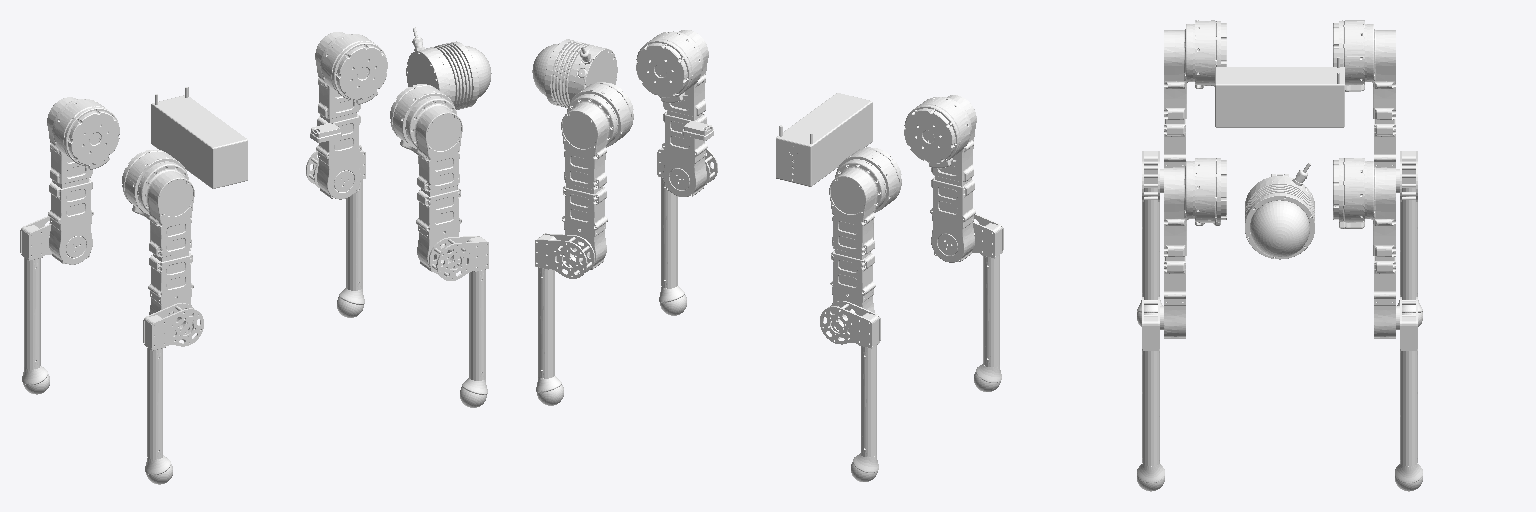
The robot description file, URDF, robot "freeAny":
<?xml version="1.0" encoding="utf-8"?>
<!-- This URDF was automatically created by SolidWorks to URDF Exporter! Originally created by Stephen Brawner ([email redacted]) 
     Commit Version: 1.6.0-1-g15f4949  Build Version: 1.6.7594.29634
     For more information, please see http://wiki.ros.org/sw_urdf_exporter -->
<robot
  name="freeAny">
  <link
    name="base">
    <inertial>
      <origin
        xyz="0.0036585 -0.00075969 -0.0077332"
        rpy="0 0 0" />
      <mass
        value="4.71" />
      <inertia
        ixx="0.02327755"
        ixy="0.000033511"
        ixz="0.000186233"
        iyy="0.126017746"
        iyz="-0.000014056"
        izz="0.133811568" />
    </inertial>
    <visual>
      <origin
        xyz="0 0 0"
        rpy="0 0 0" />
      <geometry>
        <mesh
          filename="package://freeAny/meshes/base.STL" />
      </geometry>
      <material
        name="">
        <color
          rgba="0.6 1 1 1" />
      </material>
    </visual>
    <collision>
      <origin
        xyz="0 0 0"
        rpy="0 0 0" />
      <geometry>
        <mesh
          filename="package://freeAny/meshes/base.STL" />
      </geometry>
    </collision>
  </link>
  <link
    name="battery">
    <inertial>
      <origin
        xyz="0 4.0915E-05 3.0102E-05"
        rpy="0 0 0" />
      <mass
        value="1.47" />
      <inertia
        ixx="0.004712212"
        ixy="-1.6E-08"
        ixz="-8.0E-09"
        iyy="0.001037398"
        iyz="3.622E-06"
        izz="0.004615705" />
    </inertial>
    <visual>
      <origin
        xyz="0 0 0"
        rpy="0 0 0" />
      <geometry>
        <mesh
          filename="package://freeAny/meshes/battery.STL" />
      </geometry>
      <material
        name="">
        <color
          rgba="1 1 1 1" />
      </material>
    </visual>
    <collision>
      <origin
        xyz="0 0 0"
        rpy="0 0 0" />
      <geometry>
        <mesh
          filename="package://freeAny/meshes/battery.STL" />
      </geometry>
    </collision>
  </link>
  <joint
    name="base_to_battery"
    type="fixed">
    <origin
      xyz="-0.0945 0 -0.006"
      rpy="0 0 0" />
    <parent
      link="base" />
    <child
      link="battery" />
    <axis
      xyz="0 0 0" />
  </joint>
  <link
    name="IMU">
    <inertial>
      <origin
        xyz="0.00027332 0 -0.0072335"
        rpy="0 0 0" />
      <mass
        value="0.03" />
        <inertia
          ixx="4.013E-06"
          ixy="0"
          ixz="-1.5E-08"
          iyy="6.158E-06"
          iyz="-2.0E-09"
          izz="6.061E-06" />
    </inertial>
    <visual>
      <origin
        xyz="0 0 0"
        rpy="0 0 0" />
      <geometry>
        <mesh
          filename="package://freeAny/meshes/IMU.STL" />
      </geometry>
      <material
        name="">
        <color
          rgba="1 1 1 1" />
      </material>
    </visual>
    <collision>
      <origin
        xyz="0 0 0"
        rpy="0 0 0" />
      <geometry>
        <mesh
          filename="package://freeAny/meshes/IMU.STL" />
      </geometry>
    </collision>
  </link>
  <joint
    name="base_to_IMU"
    type="fixed">
    <origin
      xyz="0.12095 0 -0.0335"
      rpy="0 0 0" />
    <parent
      link="base" />
    <child
      link="IMU" />
    <axis
      xyz="0 0 0" />
  </joint>
  <link
    name="BP_lidar">
    <inertial>
      <origin
        xyz="-0.00092658 3.0E-05 -0.058804"
        rpy="0 0 0" />
      <mass
        value="1.0" />
      <inertia
        ixx="0.005077876"
        ixy="1.493E-06"
        ixz="7.8943E-05"
        iyy="0.005133860"
        iyz="-2.922E-06"
        izz="0.001777821" />
    </inertial>
    <visual>
      <origin
        xyz="0 0 0"
        rpy="0 0 0" />
      <geometry>
        <mesh
          filename="package://freeAny/meshes/BP_lidar.STL" />
      </geometry>
      <material
        name="">
        <color
          rgba="1 1 1 1" />
      </material>
    </visual>
    <collision>
      <origin
        xyz="0 0 0"
        rpy="0 0 0" />
      <geometry>
        <mesh
          filename="package://freeAny/meshes/BP_lidar.STL" />
      </geometry>
    </collision>
  </link>
  <joint
    name="base_to_BP_lidar"
    type="fixed">
    <origin
      xyz="0.38227 0 0"
      rpy="-1.5708 1.0472 -1.5708" />
    <parent
      link="base" />
    <child
      link="BP_lidar" />
    <axis
      xyz="0 0 0" />
  </joint>
  <link
    name="HAA_LF">
    <inertial>
      <origin
        xyz="0.042659 0.0034843 -0.00035303"
        rpy="0 0 0" />
      <mass
        value="0.715" />
      <inertia
        ixx="0.000546211"
        ixy="0.000114344"
        ixz="-1.0737E-05"
        iyy="0.002324487"
        iyz="3.2554E-05"
        izz="0.002086762" />
    </inertial>
    <visual>
      <origin
        xyz="0 0 0"
        rpy="0 0 0" />
      <geometry>
        <mesh
          filename="package://freeAny/meshes/HAA.STL" />
      </geometry>
      <material
        name="">
        <color
          rgba="1 1 1 1" />
      </material>
    </visual>
    <collision>
      <origin
        xyz="0 0 0"
        rpy="0 0 0" />
      <geometry>
        <mesh
          filename="package://freeAny/meshes/HAA.STL" />
      </geometry>
    </collision>
  </link>
  <joint
    name="base_to_HAA_LF"
    type="revolute">
    <origin
      xyz="0.1756 0.055 0"
      rpy="0 0 0" />
    <parent
      link="base" />
    <child
      link="HAA_LF" />
    <axis
      xyz="-1 0 0" />
    <limit
      lower="-3"
      upper="3"
      effort="33"
      velocity="21" />
    <dynamics
      damping="0"
      friction="0" />
  </joint>
  <link
    name="thigh_LF">
    <inertial>
      <origin
        xyz="-0.0189705375371325 -0.000100074218264051 -0.072708434237058"
        rpy="0 0 0" />
      <mass
        value="1.15" />
      <inertia
        ixx="0.014724523"
        ixy="5.677E-06"
        ixz="6.2711E-05"
        iyy="0.015466921"
        iyz="7.296E-06"
        izz="0.001822592" />
    </inertial>
    <visual>
      <origin
        xyz="0 0 0"
        rpy="0 0 0" />
      <geometry>
        <mesh
          filename="package://freeAny/meshes/thigh.STL" />
      </geometry>
      <material
        name="">
        <color
          rgba="1 1 1 1" />
      </material>
    </visual>
    <collision>
      <origin
        xyz="0 0 0"
        rpy="0 0 0" />
      <geometry>
        <mesh
          filename="package://freeAny/meshes/thigh.STL" />
      </geometry>
    </collision>
  </link>
  <joint
    name="HAA_to_thigh_LF"
    type="revolute">
    <origin
      xyz="0.0541 0.09355 0"
      rpy="0 0 1.5708" />
    <parent
      link="HAA_LF" />
    <child
      link="thigh_LF" />
    <axis
      xyz="-1 0 0" />
    <limit
      lower="-3"
      upper="3"
      effort="33"
      velocity="21" />
    <dynamics damping="0" friction="0" />
  </joint>
  <link
    name="shank_LF">
    <inertial>
      <origin
        xyz="-0.000781225496575888 -0.0294992378442806 -0.00454152532339466"
        rpy="0 0 0" />
      <mass
        value="0.085" />
      <inertia
        ixx="0.000156178"
        ixy="0"
        ixz="0"
        iyy="3.8653E-05"
        iyz="1.8611E-05"
        izz="0.000133207" />
    </inertial>
    <visual>
      <origin
        xyz="0 0 0"
        rpy="0 0 0" />
      <geometry>
        <mesh
          filename="package://freeAny/meshes/shank_Left.STL" />
      </geometry>
      <material
        name="">
        <color
          rgba="1 1 1 1" />
      </material>
    </visual>
    <collision>
      <origin
        xyz="0 0 0"
        rpy="0 0 0" />
      <geometry>
        <mesh
          filename="package://freeAny/meshes/shank_Left.STL" />
      </geometry>
    </collision>
  </link>
  <joint
    name="knee_LF"
    type="revolute">
    <origin
      xyz="0.034 0 -0.2"
      rpy="0 0 0" />
    <parent
      link="thigh_LF" />
    <child
      link="shank_LF" />
    <axis
      xyz="1 0 0" />
    <limit
      lower="-5"
      upper="5"
      effort="52"
      velocity="13" />
    <dynamics damping="0" friction="0" />
  </joint>
  <link
    name="foot_LF">
    <inertial>
      <origin
        xyz="0.012 0 0.065"
        rpy="0 0 0" />
      <mass
        value="0.077" />
      <inertia
        ixx="0.00629115"
        ixy="0"
        ixz="7.2557E-05"
        iyy="0.000641223"
        iyz="0"
        izz="2.3963E-05" />
    </inertial>
    <visual>
      <origin
        xyz="0 0 0"
        rpy="0 0 0" />
      <geometry>
        <mesh
          filename="package://freeAny/meshes/foot.STL" />
      </geometry>
      <material
        name="">
        <color
          rgba="1 1 1 1" />
      </material>
    </visual>
    <collision>
      <origin
        xyz="0 0 0"
        rpy="0 0 0" />
      <geometry>
        <mesh
          filename="package://freeAny/meshes/foot.STL" />
      </geometry>
    </collision>
  </link>
  <joint
    name="shank_to_foot_LF"
    type="fixed">
    <origin
      xyz="0 -0.031301 -0.24819"
      rpy="0 0 -1.5708" />
    <parent
      link="shank_LF" />
    <child
      link="foot_LF" />
    <axis
      xyz="0 0 0" />
  </joint>
  <link
    name="HAA_RF">
    <inertial>
      <origin
        xyz="0.042659 -0.0034068 0.00081132"
        rpy="0 0 0" />
      <mass
        value="0.715" />
      <inertia
        ixx="0.000546211"
        ixy="-0.000112737"
        ixz="-2.1910E-05"
        iyy="0.002323220"
        iyz="-3.687E-05"
        izz="0.002088029" />
    </inertial>
    <visual>
      <origin
        xyz="0 0 0"
        rpy="3.1415926 0 0" />
      <geometry>
        <mesh
          filename="package://freeAny/meshes/HAA.STL" />
      </geometry>
      <material
        name="">
        <color
          rgba="1 1 1 1" />
      </material>
    </visual>
    <collision>
      <origin
        xyz="0 0 0"
        rpy="3.1415926 0 0" />
      <geometry>
        <mesh
          filename="package://freeAny/meshes/HAA.STL" />
      </geometry>
    </collision>
  </link>
  <joint
    name="base_to_HAA_RF"
    type="revolute">
    <origin
      xyz="0.1756 -0.055 0"
      rpy="0 0 0" />
    <parent
      link="base" />
    <child
      link="HAA_RF" />
    <axis
      xyz="-1 0 0" />
    <limit
      lower="-3"
      upper="3"
      effort="33"
      velocity="21" />
    <dynamics damping="0" friction="0" />
  </joint>
  <link
    name="thigh_RF">
    <inertial>
      <origin
        xyz="0.0189705413173276 0.000100069718065726 -0.0727084333709927"
        rpy="0 0 0" />
      <mass
        value="1.15" />
      <inertia
        ixx="0.014724523"
        ixy="5.677E-06"
        ixz="-6.2711E-05"
        iyy="0.015466921"
        iyz="-7.296E-06"
        izz="0.001822592" />
    </inertial>
    <visual>
      <origin
        xyz="0 0 0"
        rpy="0 0 3.1415926" />
      <geometry>
        <mesh
          filename="package://freeAny/meshes/thigh.STL" />
      </geometry>
      <material
        name="">
        <color
          rgba="1 1 1 1" />
      </material>
    </visual>
    <collision>
      <origin
        xyz="0 0 0"
        rpy="0 0 3.1415926" />
      <geometry>
        <mesh
          filename="package://freeAny/meshes/thigh.STL" />
      </geometry>
    </collision>
  </link>
  <joint
    name="HAA_to_thigh_RF"
    type="revolute">
    <origin
      xyz="0.0541 -0.09355 0"
      rpy="0 0 1.5708" />
    <parent
      link="HAA_RF" />
    <child
      link="thigh_RF" />
    <axis
      xyz="1 0 0" />
    <limit
      lower="-3"
      upper="3"
      effort="33"
      velocity="21" />
    <dynamics damping="0" friction="0" />
  </joint>
  <link
    name="shank_RF">
    <inertial>
      <origin
        xyz="0.000781225557017318 -0.0294992381685193 -0.00454152518167399"
        rpy="0 0 0" />
      <mass
        value="0.085" />
      <inertia
        ixx="0.000156178"
        ixy="0"
        ixz="0"
        iyy="3.8653E-05"
        iyz="1.8611E-05"
        izz="0.000133207" />
    </inertial>
    <visual>
      <origin
        xyz="0 0 0"
        rpy="0 0 0" />
      <geometry>
        <mesh
          filename="package://freeAny/meshes/shank_Right.STL" />
      </geometry>
      <material
        name="">
        <color
          rgba="1 1 1 1" />
      </material>
    </visual>
    <collision>
      <origin
        xyz="0 0 0"
        rpy="0 0 0" />
      <geometry>
        <mesh
          filename="package://freeAny/meshes/shank_Right.STL" />
      </geometry>
    </collision>
  </link>
  <joint
    name="knee_RF"
    type="revolute">
    <origin
      xyz="-0.034 0 -0.2"
      rpy="0 0 0" />
    <parent
      link="thigh_RF" />
    <child
      link="shank_RF" />
    <axis
      xyz="1 0 0" />
    <limit
      lower="-5"
      upper="5"
      effort="52"
      velocity="13" />
    <dynamics damping="0" friction="0" />
  </joint>
  <link
    name="foot_RF">
    <inertial>
      <origin
        xyz="0.012 0 0.065"
        rpy="0 0 0" />
      <mass
        value="0.077" />
      <inertia
        ixx="0.00629115"
        ixy="0"
        ixz="7.2557E-05"
        iyy="0.000641223"
        iyz="0"
        izz="2.3963E-05" />
    </inertial>
    <visual>
      <origin
        xyz="0 0 0"
        rpy="0 0 0" />
      <geometry>
        <mesh
          filename="package://freeAny/meshes/foot.STL" />
      </geometry>
      <material
        name="">
        <color
          rgba="1 1 1 1" />
      </material>
    </visual>
    <collision>
      <origin
        xyz="0 0 0"
        rpy="0 0 0" />
      <geometry>
        <mesh
          filename="package://freeAny/meshes/foot.STL" />
      </geometry>
    </collision>
  </link>
  <joint
    name="shank_to_foot_RF"
    type="fixed">
    <origin
      xyz="0 -0.031301 -0.24819"
      rpy="0 0 -1.5708" />
    <parent
      link="shank_RF" />
    <child
      link="foot_RF" />
    <axis
      xyz="0 0 0" />
  </joint>
  <link
    name="HAA_LH">
    <inertial>
      <origin
        xyz="-0.0426589009356411 0.00336104614069828 -0.00098404465852114"
        rpy="0 0 0" />
      <mass
        value="0.715" />
        <inertia
          ixx="0.000546211"
          ixy="-0.000109978"
          ixz="3.3083E-05"
          iyy="0.002313521"
          iyz="5.9552E-05"
          izz="0.002097728" />
    </inertial>
    <visual>
      <origin
        xyz="0 0 0"
        rpy="0 3.1415926 0" />
      <geometry>
        <mesh
          filename="package://freeAny/meshes/HAA.STL" />
      </geometry>
      <material
        name="">
        <color
          rgba="1 1 1 1" />
      </material>
    </visual>
    <collision>
      <origin
        xyz="0 0 0"
        rpy="0 3.1415926 0" />
      <geometry>
        <mesh
          filename="package://freeAny/meshes/HAA.STL" />
      </geometry>
    </collision>
  </link>
  <joint
    name="base_to_HAA_LH"
    type="revolute">
    <origin
      xyz="-0.1756 0.055 0"
      rpy="0 0 0" />
    <parent
      link="base" />
    <child
      link="HAA_LH" />
    <axis
      xyz="1 0 0" />
    <limit
      lower="-3"
      upper="3"
      effort="33"
      velocity="21" />
    <dynamics damping="0" friction="0" />
  </joint>
  <link
    name="thigh_LH">
    <inertial>
      <origin
        xyz="-0.018970527572257 -0.000100071540005076 -0.0727084007452807"
        rpy="0 0 0" />
      <mass
        value="1.15" />
      <inertia
        ixx="0.014724523"
        ixy="5.677E-06"
        ixz="6.2711E-05"
        iyy="0.015466921"
        iyz="7.296E-06"
        izz="0.001822592" />
    </inertial>
    <visual>
      <origin
        xyz="0 0 0"
        rpy="0 0 0" />
      <geometry>
        <mesh
          filename="package://freeAny/meshes/thigh.STL" />
      </geometry>
      <material
        name="">
        <color
          rgba="1 1 1 1" />
      </material>
    </visual>
    <collision>
      <origin
        xyz="0 0 0"
        rpy="0 0 0" />
      <geometry>
        <mesh
          filename="package://freeAny/meshes/thigh.STL" />
      </geometry>
    </collision>
  </link>
  <joint
    name="HAA_to_thigh_LH"
    type="revolute">
    <origin
      xyz="-0.0541 0.09355 0"
      rpy="0 0 1.5708" />
    <parent
      link="HAA_LH" />
    <child
      link="thigh_LH" />
    <axis
      xyz="-1 0 0" />
    <limit
      lower="-3"
      upper="3"
      effort="33"
      velocity="21" />
    <dynamics damping="0" friction="0" />
  </joint>
  <link
    name="shank_LH">
    <inertial>
      <origin
        xyz="-0.000781225661406718 0.0294992382419825 -0.00454152509121089"
        rpy="0 0 0" />
      <mass
        value="0.085" />
        <inertia
          ixx="0.000156178"
          ixy="0"
          ixz="0"
          iyy="3.8653E-05"
          iyz="-1.8611E-05"
          izz="0.000133207" />
    </inertial>
    <visual>
      <origin
        xyz="0 0 0"
        rpy="0 0 3.1415926" />
      <geometry>
        <mesh
          filename="package://freeAny/meshes/shank_Right.STL" />
      </geometry>
      <material
        name="">
        <color
          rgba="1 1 1 1" />
      </material>
    </visual>
    <collision>
      <origin
        xyz="0 0 0"
        rpy="0 0 3.1415926" />
      <geometry>
        <mesh
          filename="package://freeAny/meshes/shank_Right.STL" />
      </geometry>
    </collision>
  </link>
  <joint
    name="knee_LH"
    type="revolute">
    <origin
      xyz="0.034 0 -0.2"
      rpy="0 0 0" />
    <parent
      link="thigh_LH" />
    <child
      link="shank_LH" />
    <axis
      xyz="-1 0 0" />
    <limit
      lower="-5"
      upper="5"
      effort="52"
      velocity="13" />
    <dynamics damping="0" friction="0" />
  </joint>
  <link
    name="foot_LH">
    <inertial>
      <origin
        xyz="-0.012 0 0.065"
        rpy="0 0 0" />
      <mass
        value="0.077" />
      <inertia
        ixx="0.00629115"
        ixy="0"
        ixz="-7.2557E-05"
        iyy="0.000641223"
        iyz="0"
        izz="2.3963E-05" />
    </inertial>
    <visual>
      <origin
        xyz="0 0 0"
        rpy="0 0 3.1415926" />
      <geometry>
        <mesh
          filename="package://freeAny/meshes/foot.STL" />
      </geometry>
      <material
        name="">
        <color
          rgba="1 1 1 1" />
      </material>
    </visual>
    <collision>
      <origin
        xyz="0 0 0"
        rpy="0 0 3.1415926" />
      <geometry>
        <mesh
          filename="package://freeAny/meshes/foot.STL" />
      </geometry>
    </collision>
  </link>
  <joint
    name="shank_to_foot_LH"
    type="fixed">
    <origin
      xyz="0 0.031301 -0.24819"
      rpy="0 0 -1.5708" />
    <parent
      link="shank_LH" />
    <child
      link="foot_LH" />
    <axis
      xyz="0 0 0" />
  </joint>
  <link
    name="HAA_RH">
    <inertial>
      <origin
        xyz="-0.0426589598828938 -0.00349947540224291 -0.000136472518079925"
        rpy="0 0 0" />
      <mass
        value="0.715" />
      <inertia
        ixx="0.000546211"
        ixy="0.000114149"
        ixz="1.2634E-05"
        iyy="0.002323341"
        iyz="-3.6484E-05"
        izz="0.002087909" />
    </inertial>
    <visual>
      <origin
        xyz="0 0 0"
        rpy="0 0 3.1415926" />
      <geometry>
        <mesh
          filename="package://freeAny/meshes/HAA.STL" />
      </geometry>
      <material
        name="">
        <color
          rgba="1 1 1 1" />
      </material>
    </visual>
    <collision>
      <origin
        xyz="0 0 0"
        rpy="0 0 3.1415926" />
      <geometry>
        <mesh
          filename="package://freeAny/meshes/HAA.STL" />
      </geometry>
    </collision>
  </link>
  <joint
    name="base_to_HAA_RH"
    type="revolute">
    <origin
      xyz="-0.1756 -0.055 0"
      rpy="0 0 0" />
    <parent
      link="base" />
    <child
      link="HAA_RH" />
    <axis
      xyz="1 0 0" />
    <limit
      lower="-3"
      upper="3"
      effort="33"
      velocity="21" />
    <dynamics  damping="0" friction="0" />
  </joint>
  <link
    name="thigh_RH">
    <inertial>
      <origin
        xyz="0.0189705315627431 0.00010007501689871 -0.0727083931947322"
        rpy="0 0 0" />
      <mass
        value="1.15" />
        <inertia
          ixx="0.014724523"
          ixy="5.677E-06"
          ixz="-6.2711E-05"
          iyy="0.015466921"
          iyz="-7.296E-06"
          izz="0.001822592" />
    </inertial>
    <visual>
      <origin
        xyz="0 0 0"
        rpy="0 0 3.1415926" />
      <geometry>
        <mesh
          filename="package://freeAny/meshes/thigh.STL" />
      </geometry>
      <material
        name="">
        <color
          rgba="1 1 1 1" />
      </material>
    </visual>
    <collision>
      <origin
        xyz="0 0 0"
        rpy="0 0 3.1415926" />
      <geometry>
        <mesh
          filename="package://freeAny/meshes/thigh.STL" />
      </geometry>
    </collision>
  </link>
  <joint
    name="HAA_to_thigh_RH"
    type="revolute">
    <origin
      xyz="-0.0541 -0.09355 0"
      rpy="0 0 1.5708" />
    <parent
      link="HAA_RH" />
    <child
      link="thigh_RH" />
    <axis
      xyz="1 0 0" />
    <limit
      lower="-3"
      upper="3"
      effort="33"
      velocity="21" />
    <dynamics damping="0" friction="0" />
  </joint>
  <link
    name="shank_RH">
    <inertial>
      <origin
        xyz="0.000781225298595478 0.0294992377560534 -0.00454152525288773"
        rpy="0 0 0" />
      <mass
        value="0.085" />
        <inertia
          ixx="0.000156178"
          ixy="0"
          ixz="0"
          iyy="3.8653E-05"
          iyz="-1.8611E-05"
          izz="0.000133207" />
    </inertial>
    <visual>
      <origin
        xyz="0 0 0"
        rpy="0 0 3.1415926" />
      <geometry>
        <mesh
          filename="package://freeAny/meshes/shank_Left.STL" />
      </geometry>
      <material
        name="">
        <color
          rgba="1 1 1 1" />
      </material>
    </visual>
    <collision>
      <origin
        xyz="0 0 0"
        rpy="0 0 3.1415926" />
      <geometry>
        <mesh
          filename="package://freeAny/meshes/shank_Left.STL" />
      </geometry>
    </collision>
  </link>
  <joint
    name="knee_RH"
    type="revolute">
    <origin
      xyz="-0.034 0 -0.2"
      rpy="0 0 0" />
    <parent
      link="thigh_RH" />
    <child
      link="shank_RH" />
    <axis
      xyz="-1 0 0" />
    <limit
      lower="-5"
      upper="5"
      effort="52"
      velocity="13" />
    <dynamics damping="0" friction="0" />
  </joint>
  <link
    name="foot_RH">
    <inertial>
      <origin
        xyz="-0.012 0 0.065"
        rpy="0 0 0" />
      <mass
        value="0.077" />
      <inertia
        ixx="0.00629115"
        ixy="0"
        ixz="-7.2557E-05"
        iyy="0.000641223"
        iyz="0"
        izz="2.3963E-05" />
    </inertial>
    <visual>
      <origin
        xyz="0 0 0"
        rpy="0 0 3.1415926" />
      <geometry>
        <mesh
          filename="package://freeAny/meshes/foot.STL" />
      </geometry>
      <material
        name="">
        <color
          rgba="1 1 1 1" />
      </material>
    </visual>
    <collision>
      <origin
        xyz="0 0 0"
        rpy="0 0 3.1415926" />
      <geometry>
        <mesh
          filename="package://freeAny/meshes/foot.STL" />
      </geometry>
    </collision>
  </link>
  <joint
    name="shank_to_foot_RH"
    type="fixed">
    <origin
      xyz="0 0.031301 -0.24819"
      rpy="0 0 -1.5708" />
    <parent
      link="shank_RH" />
    <child
      link="foot_RH" />
    <axis
      xyz="0 0 0" />
  </joint>
</robot>

--- What the picture shows (computed from the rendered views, not written in the file) ---
The picture shows the robot from 3 angles, left to right: view 1: azimuth 30°, elevation 25°; view 2: azimuth 150°, elevation 25°; view 3: azimuth 270°, elevation 25°; orthographic projection.
Model freeAny with 20 links and 19 joints (12 revolute, 7 fixed), rooted at base, posed every joint at zero.
Visible links, largest first — view 1: thigh_LH, thigh_RF, thigh_LF, thigh_RH, battery, BP_lidar, foot_RF, foot_LH, foot_RH, foot_LF, shank_RH, shank_RF (+1 smaller); view 2: thigh_RH, thigh_LF, thigh_RF, thigh_LH, battery, BP_lidar, foot_LF, foot_RH, foot_LH, foot_RF, shank_LH, shank_LF (+1 smaller); view 3: battery, thigh_LF, thigh_RF, thigh_LH, thigh_RH, BP_lidar, foot_LF, foot_RF, foot_LH, foot_RH, shank_LH, shank_RH (+2 smaller).
Boxes of the visible links, bbox=[...] form: thigh_LH: bbox=[47, 97, 119, 264]; thigh_RF: bbox=[390, 84, 462, 271]; thigh_LF: bbox=[315, 32, 387, 199]; thigh_RH: bbox=[122, 150, 194, 335]; battery: bbox=[151, 87, 247, 188]; BP_lidar: bbox=[406, 27, 491, 109]; foot_RF: bbox=[460, 270, 487, 407]; foot_LH: bbox=[22, 257, 49, 394]; foot_RH: bbox=[145, 347, 172, 484]; foot_LF: bbox=[337, 179, 364, 317]; shank_RH: bbox=[143, 303, 203, 358]; shank_RF: bbox=[429, 236, 488, 280]; thigh_RH: bbox=[904, 95, 976, 262]; thigh_LF: bbox=[561, 82, 633, 269]; thigh_RF: bbox=[636, 30, 708, 196]; thigh_LH: bbox=[829, 147, 901, 333]; battery: bbox=[776, 93, 872, 186]; BP_lidar: bbox=[532, 39, 617, 107]; foot_LF: bbox=[536, 267, 563, 405]; foot_RH: bbox=[974, 255, 1001, 391]; foot_LH: bbox=[851, 345, 878, 481]; foot_RF: bbox=[659, 177, 686, 315]; shank_LH: bbox=[820, 301, 880, 356]; shank_LF: bbox=[535, 233, 594, 278]; battery: bbox=[1215, 57, 1344, 127]; thigh_LF: bbox=[1333, 158, 1395, 338]; thigh_RF: bbox=[1164, 158, 1226, 338]; thigh_LH: bbox=[1333, 20, 1395, 167]; thigh_RH: bbox=[1164, 20, 1226, 167]; BP_lidar: bbox=[1245, 163, 1314, 259]; foot_LF: bbox=[1395, 351, 1422, 491]; foot_RF: bbox=[1137, 351, 1164, 491]; foot_LH: bbox=[1397, 188, 1422, 326]; foot_RH: bbox=[1137, 188, 1162, 326]; shank_LH: bbox=[1396, 151, 1417, 201]; shank_RH: bbox=[1142, 151, 1163, 201].
Size in the robot's own frame: 0.69 by 0.406 by 0.5245 metres.
15 mesh visuals loaded from 9 distinct referenced files (7 binary STL); not drawn: 5 (reference not matched to a file when rendering).
